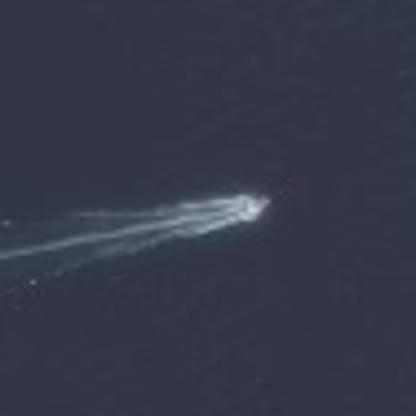ship: (214, 189, 282, 229)
